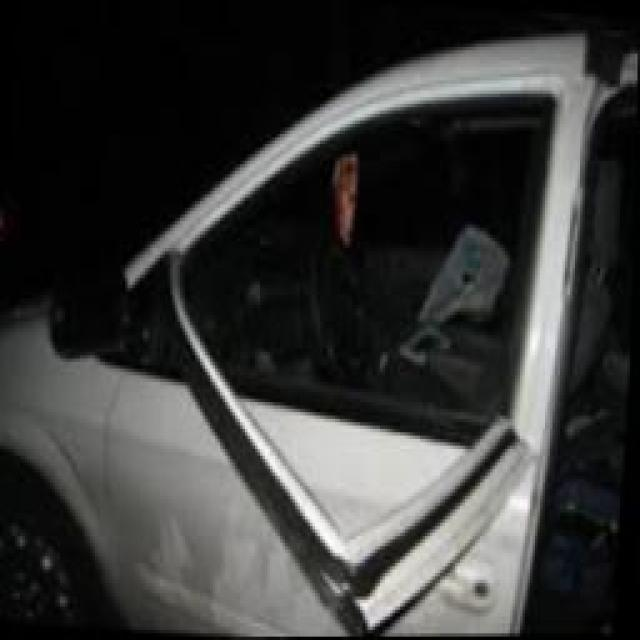replaceable: (141, 164, 547, 374)
